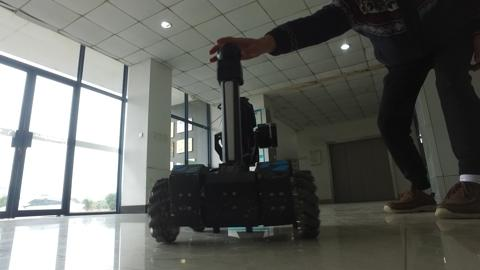chariot: (136, 42, 333, 247)
